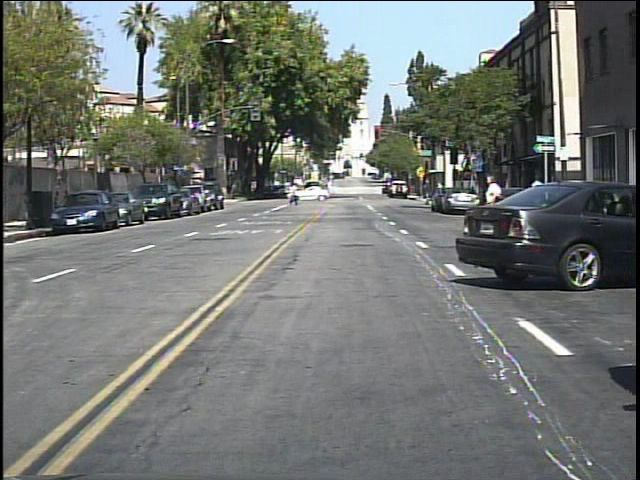person: (478, 166, 510, 245), (529, 169, 550, 218), (289, 177, 306, 210)
